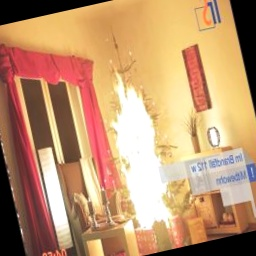fire: (93, 69, 181, 237)
